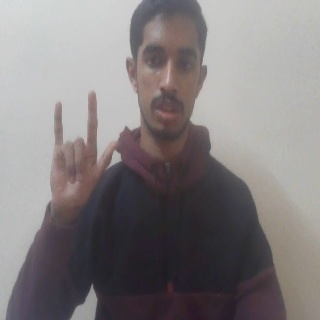Face: (125, 2, 209, 142)
I Love You: (45, 87, 120, 221)
